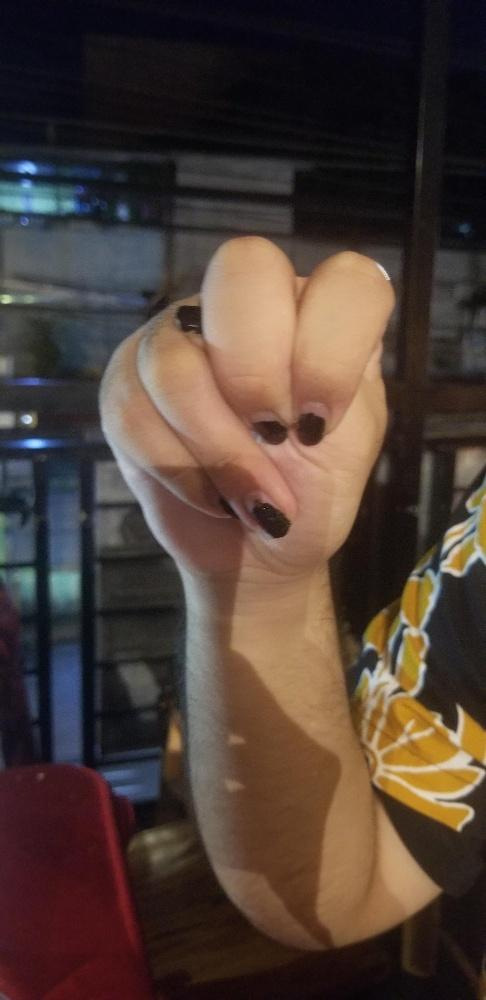n: (101, 230, 400, 567)
